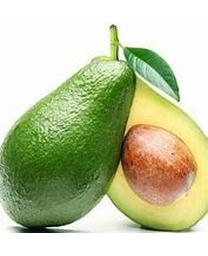avocado: (0, 53, 137, 228), (89, 55, 207, 231)
